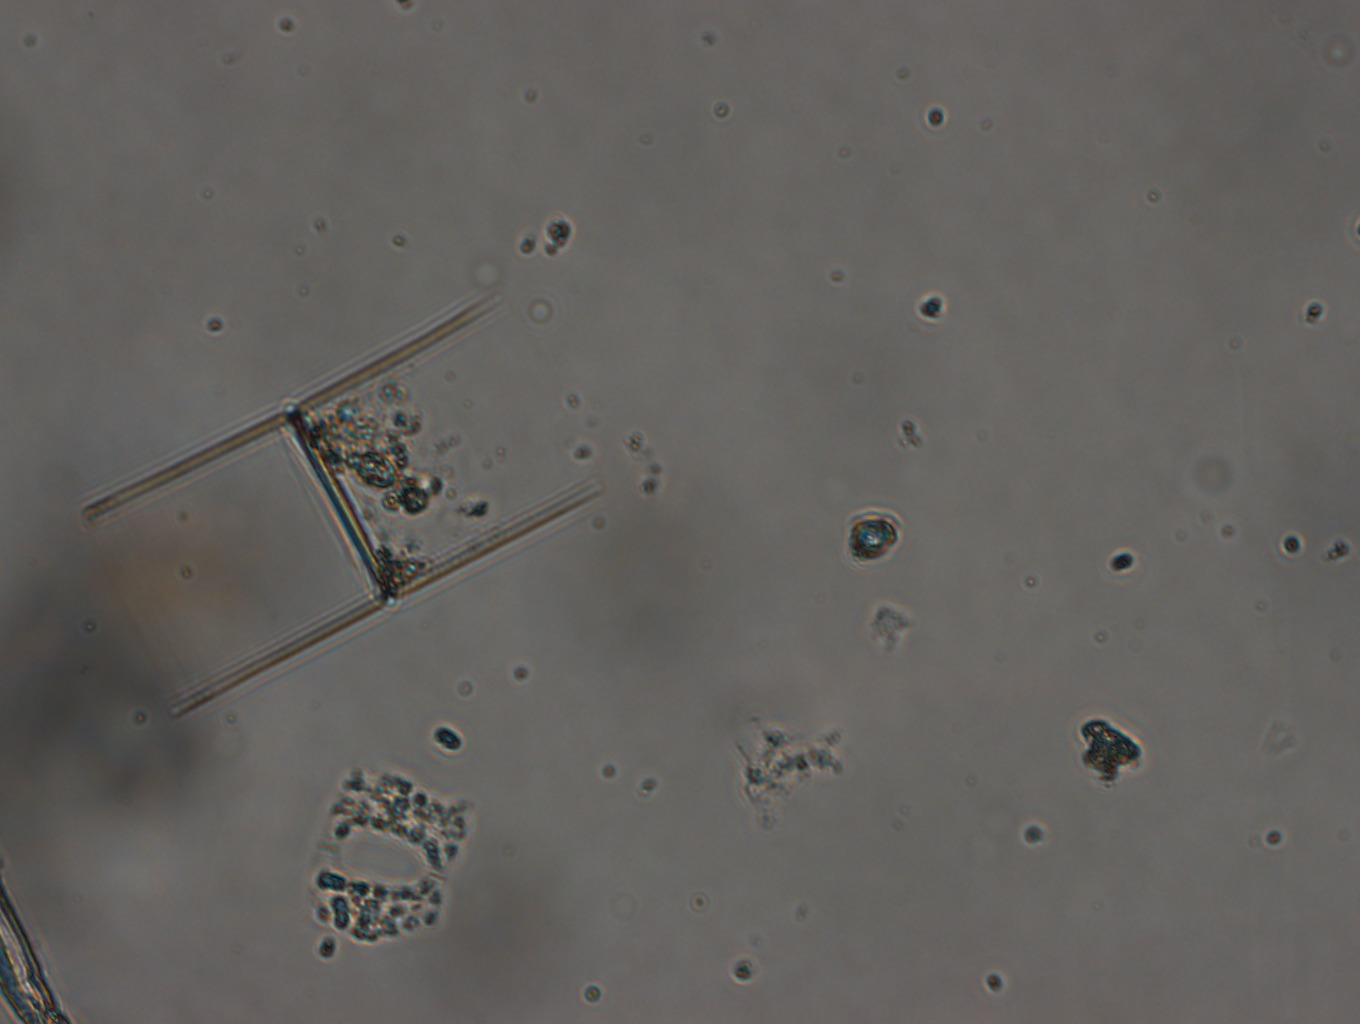guinardia flaccida: (72, 299, 615, 721)
